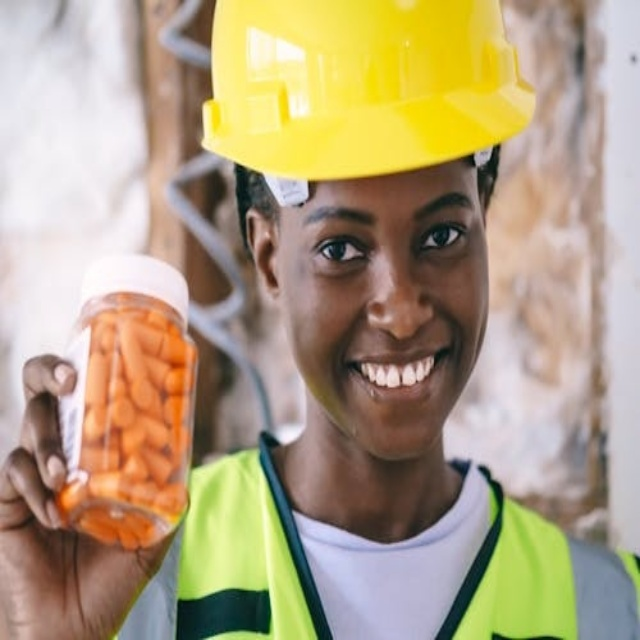Sin_gafas: (291, 183, 480, 282)
Sin_guantes: (2, 346, 179, 636)
Sin_mascara: (328, 340, 465, 439)
